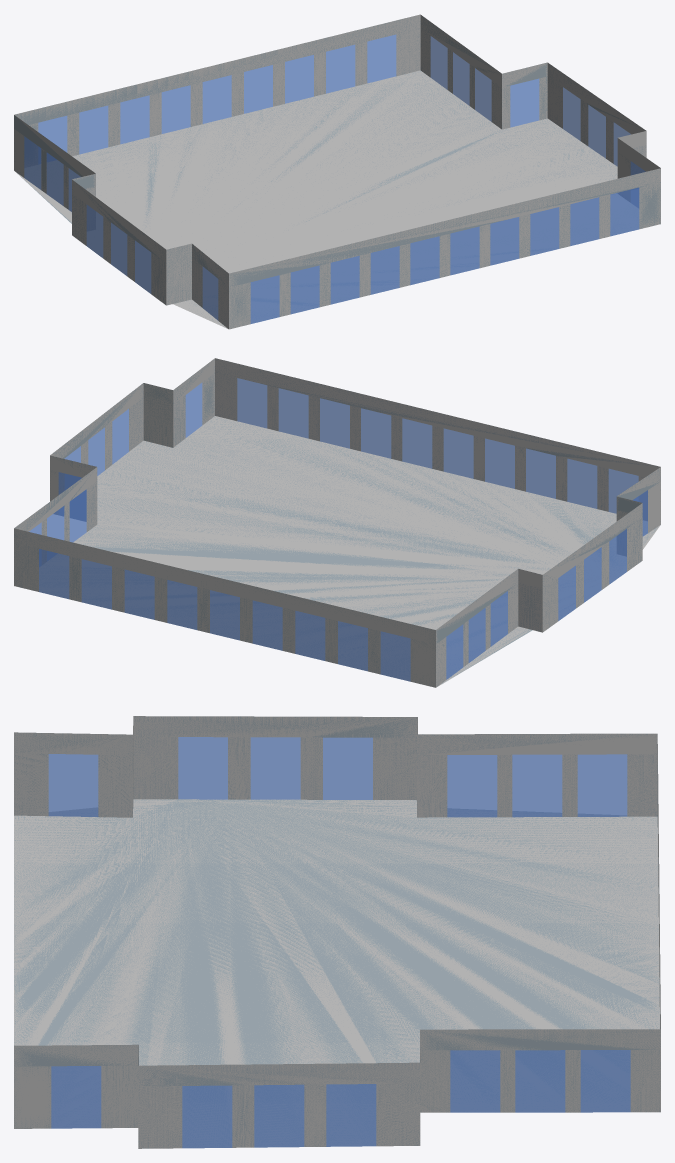
Rendered from GenericBuilding_Base_2017_FBX.fbx.
3 renders of one model, top to bottom at view 1: azimuth 30°, elevation 25°; view 2: azimuth 150°, elevation 25°; view 3: azimuth 270°, elevation 25°, orthographic. The views are drawn at different scales.
Parts seen in each view (by area): view 1: Group2, Group1; view 2: Group2, Group1; view 3: Group2, Group1.
Boxes of the visible parts, x1,y1,x2,y2 form: Group2: (16, 70, 638, 329); Group1: (14, 14, 660, 329); Group2: (39, 416, 660, 686); Group1: (14, 358, 660, 687); Group2: (14, 799, 659, 1147); Group1: (14, 716, 660, 1148).
Bounding box in the file's own units: 40561 × 4500 × 31727.
